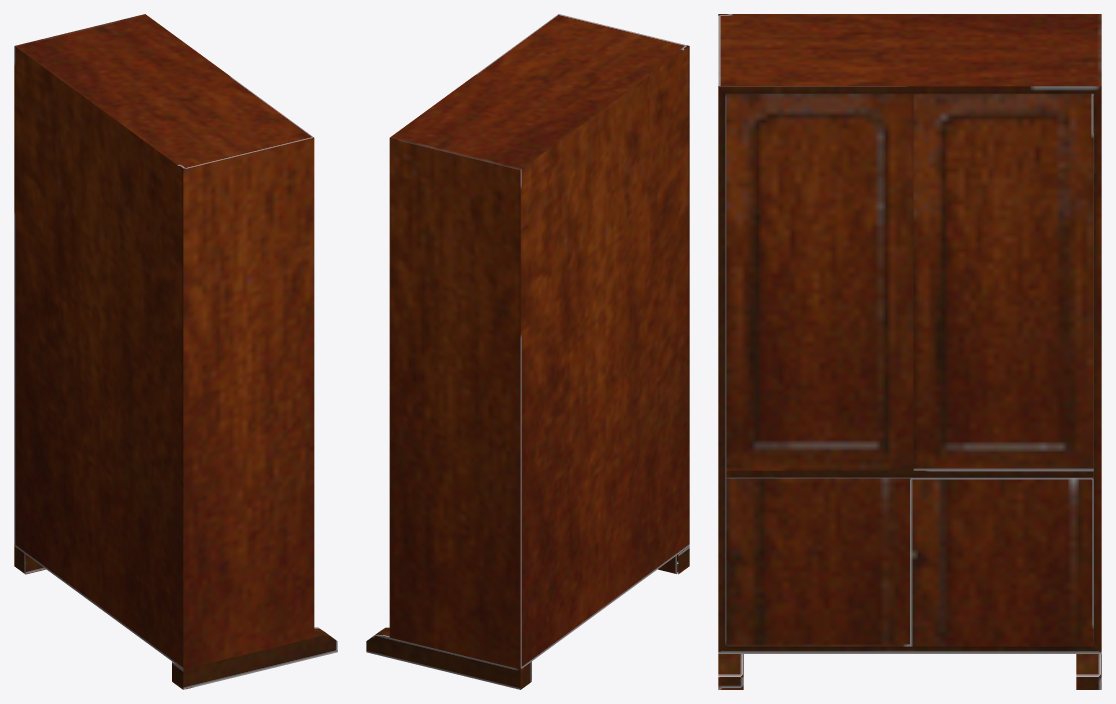
File: Wooden Wardrobe-3.fbx
3 views of the same model, side by side, from view 1: azimuth 30°, elevation 25°; view 2: azimuth 150°, elevation 25°; view 3: azimuth 270°, elevation 25° (orthographic). The views are drawn at different scales.
Visible parts, largest first — view 1: Wooden Wardrobe-3; view 2: Wooden Wardrobe-3; view 3: Wooden Wardrobe Upper Door-1, Wooden Wardrobe Upper Door-2, Wooden Wardrobe-3, Wooden Wardrobe Bottom Door-1, Wooden Wardrobe Bottom Door-2.
Boxes of the visible parts, <box> form: Wooden Wardrobe-3: <box>14,14,337,689</box>; Wooden Wardrobe-3: <box>366,14,689,689</box>; Wooden Wardrobe Upper Door-1: <box>726,93,913,470</box>; Wooden Wardrobe Upper Door-2: <box>913,93,1093,470</box>; Wooden Wardrobe-3: <box>718,14,1101,689</box>; Wooden Wardrobe Bottom Door-1: <box>726,478,909,646</box>; Wooden Wardrobe Bottom Door-2: <box>910,478,1093,646</box>.
Size of the model in its own units: 137 by 441 by 260.
